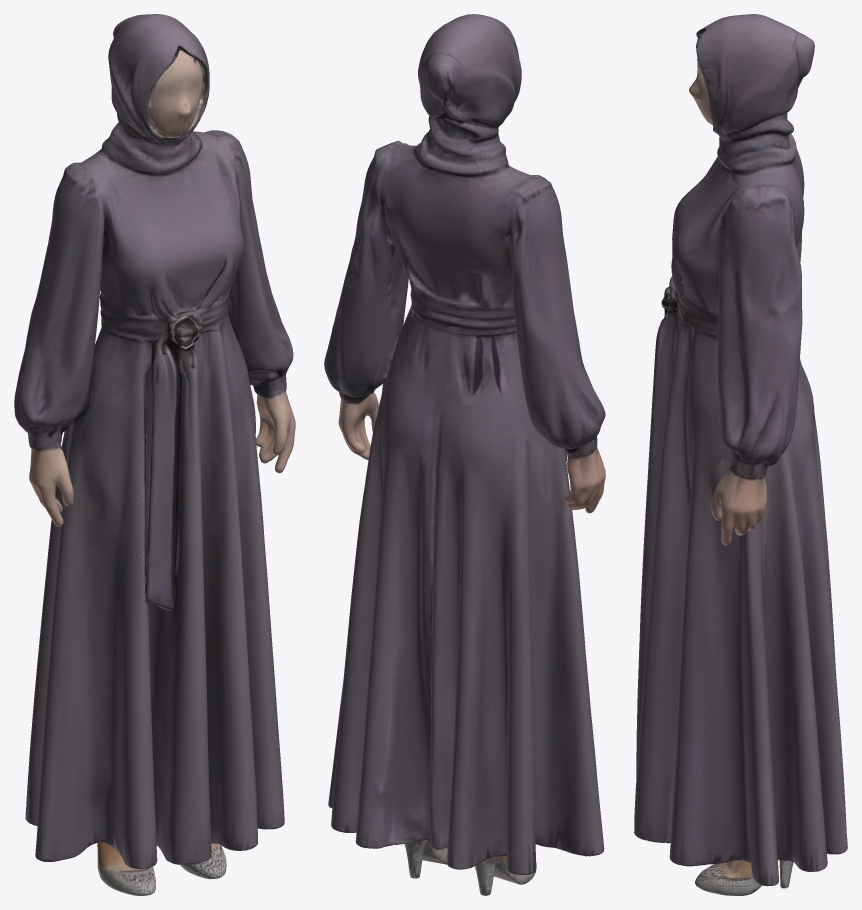
File: hijab-02.glb
The picture shows the model from 3 angles, left to right: view 1: azimuth 30°, elevation 25°; view 2: azimuth 150°, elevation 25°; view 3: azimuth 270°, elevation 25°; orthographic projection.
Visible parts, largest first — view 1: tripo_node_8921b837-3f7c-4bd4-aca1-f910c4d87a3d; view 2: tripo_node_8921b837-3f7c-4bd4-aca1-f910c4d87a3d; view 3: tripo_node_8921b837-3f7c-4bd4-aca1-f910c4d87a3d.
Boxes of the visible parts, x1,y1,x2,y2 form: tripo_node_8921b837-3f7c-4bd4-aca1-f910c4d87a3d: (14, 14, 295, 895); tripo_node_8921b837-3f7c-4bd4-aca1-f910c4d87a3d: (324, 14, 605, 895); tripo_node_8921b837-3f7c-4bd4-aca1-f910c4d87a3d: (634, 14, 847, 895).
Bounding box in the file's own units: 0.3314 × 0.9999 × 0.2274.
Materials: 1 (1 with a texture image).
